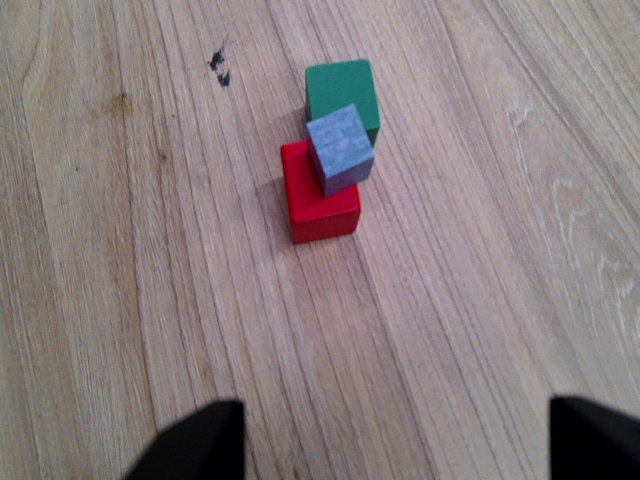stone: (301, 102, 380, 202)
